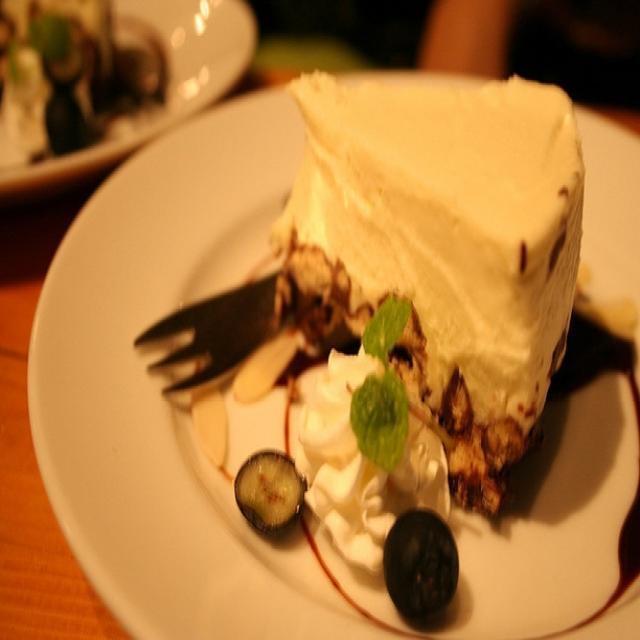Rare cheese cake: (240, 42, 606, 556)
